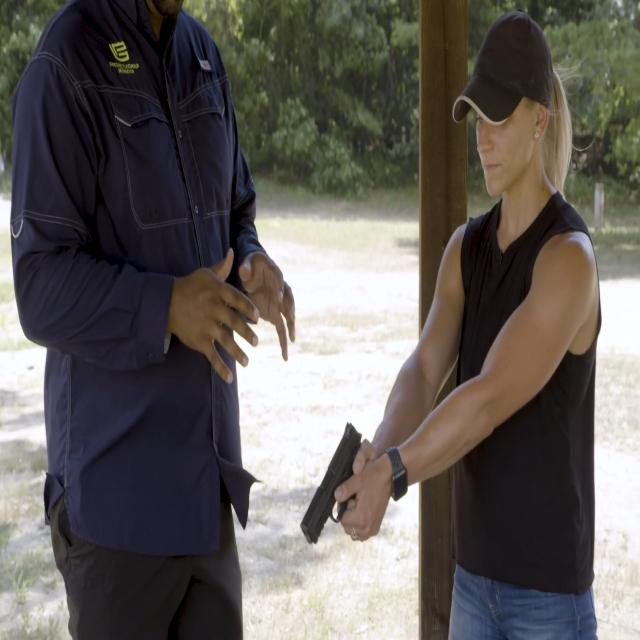Gun_Holder: (304, 408, 391, 556)
Person: (12, 1, 267, 640), (376, 10, 596, 640)
